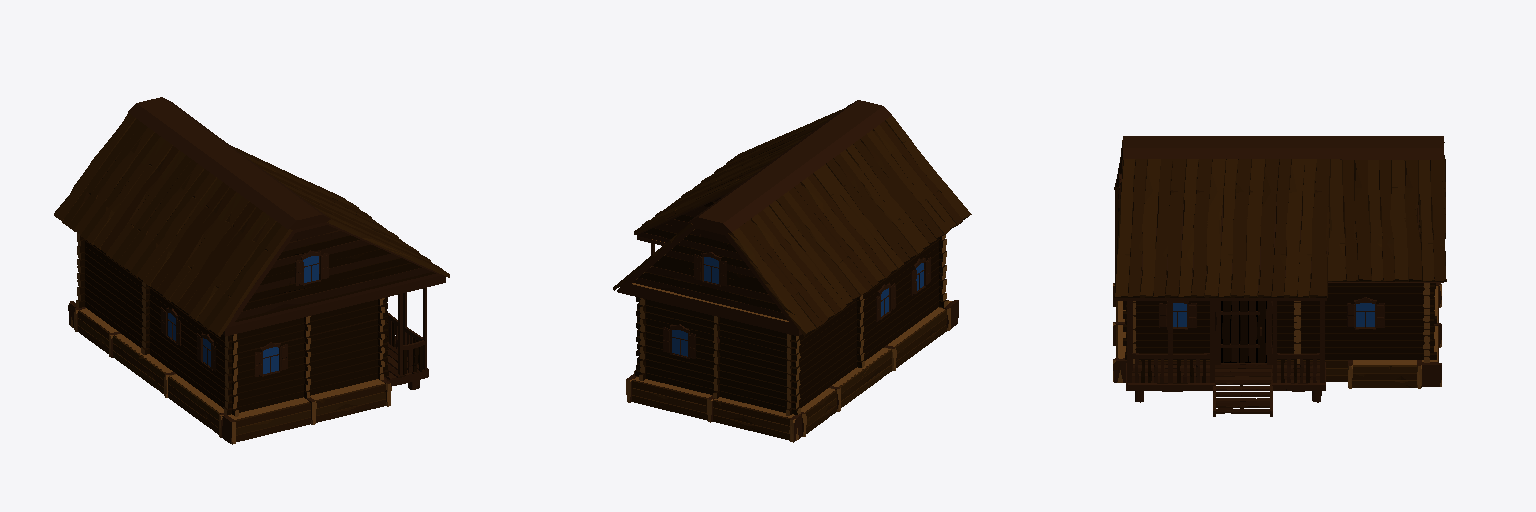
Rendered from WoodHouse.obj.
The picture shows the model from 3 angles: view 1: azimuth 30°, elevation 25°; view 2: azimuth 150°, elevation 25°; view 3: azimuth 270°, elevation 25°; orthographic projection.
Visible parts, largest first — view 1: House_Cube.002; view 2: House_Cube.002; view 3: House_Cube.002.
Part boxes in pixels (left/top/right/bottom): House_Cube.002: left=54, top=97, right=449, bottom=444; House_Cube.002: left=613, top=100, right=971, bottom=442; House_Cube.002: left=1113, top=136, right=1446, bottom=416.
Size of the model in its own units: 3.2 by 2.56 by 3.79.